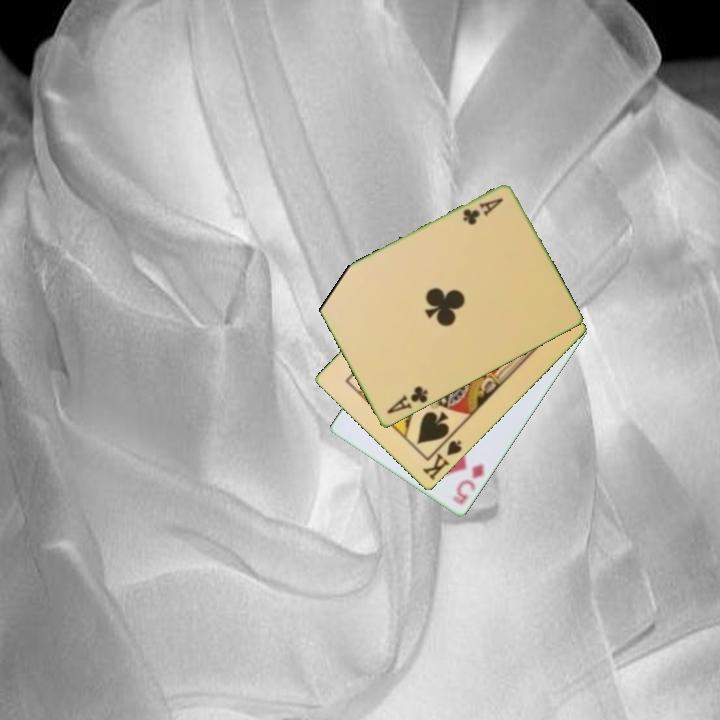5d: (448, 461, 487, 508)
Ac: (383, 383, 431, 417), (459, 195, 506, 229)
Ks: (419, 437, 465, 484)
